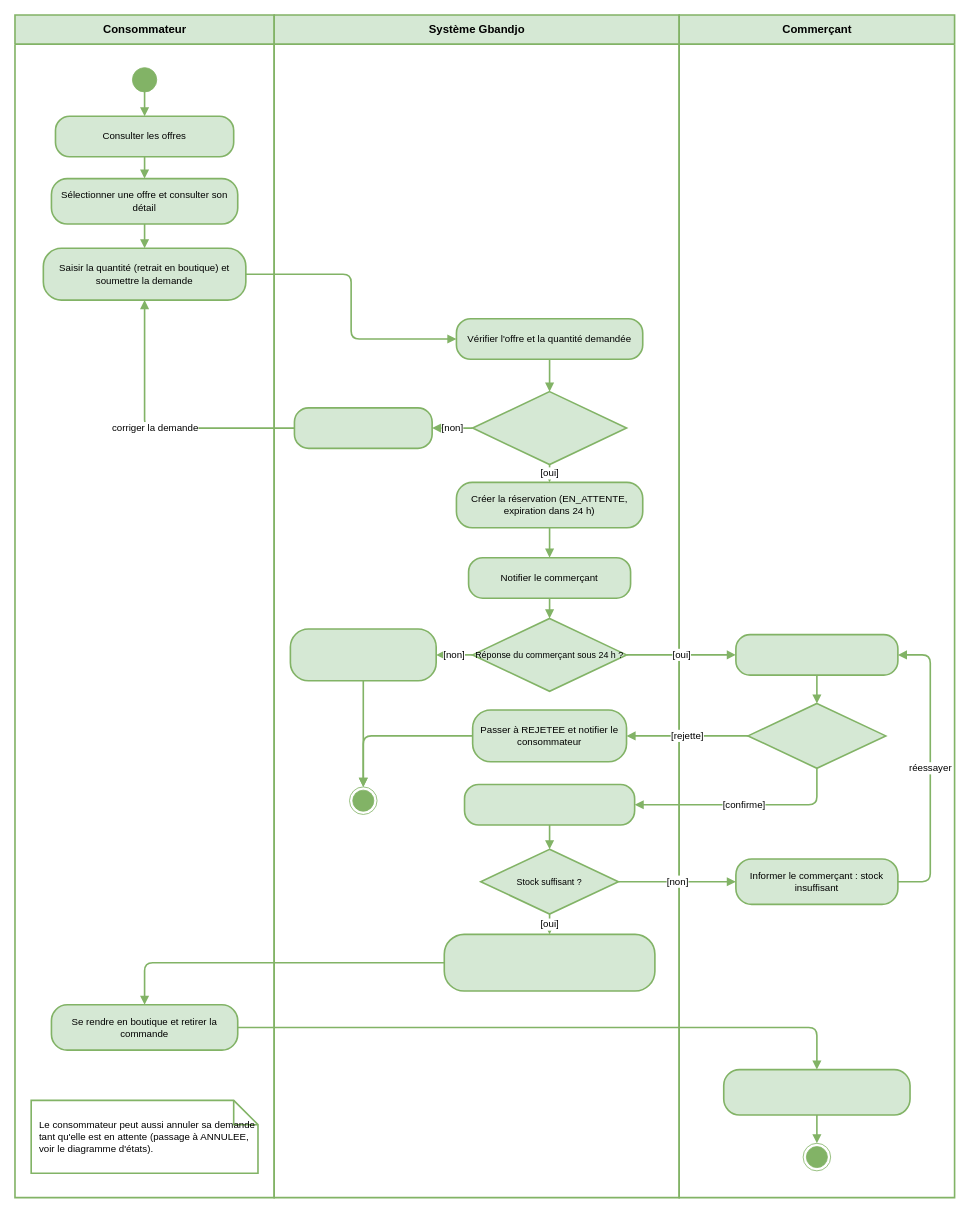
Some shapes in this 969 by 1212 pixel diagram are drawn without their labels. The box of each missing label's shape, as (x1, y1, x2, y2) in pixels:
Afficher un message d'erreur: (293, 407, 433, 449)
Consulter la demande et décider: (735, 633, 898, 676)
Décision du commerçant ?: (747, 702, 886, 769)
Décrémenter la quantité, passer à CONFIRMEE et notifier le consommateur: (443, 933, 655, 991)
Marquer la réservation comme retirée (RETIREE): (723, 1068, 910, 1115)
Offre valide et stock suffisant ?: (471, 390, 627, 465)
Passer à EXPIREE et notifier le consommateur: (289, 628, 437, 681)
Verrouiller l'offre et vérifier le stock: (463, 783, 635, 825)
